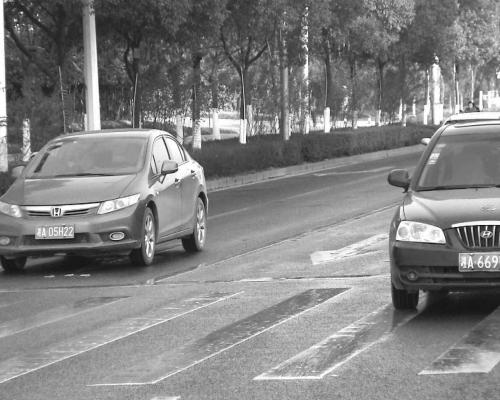Carplate: (33, 223, 78, 241)
